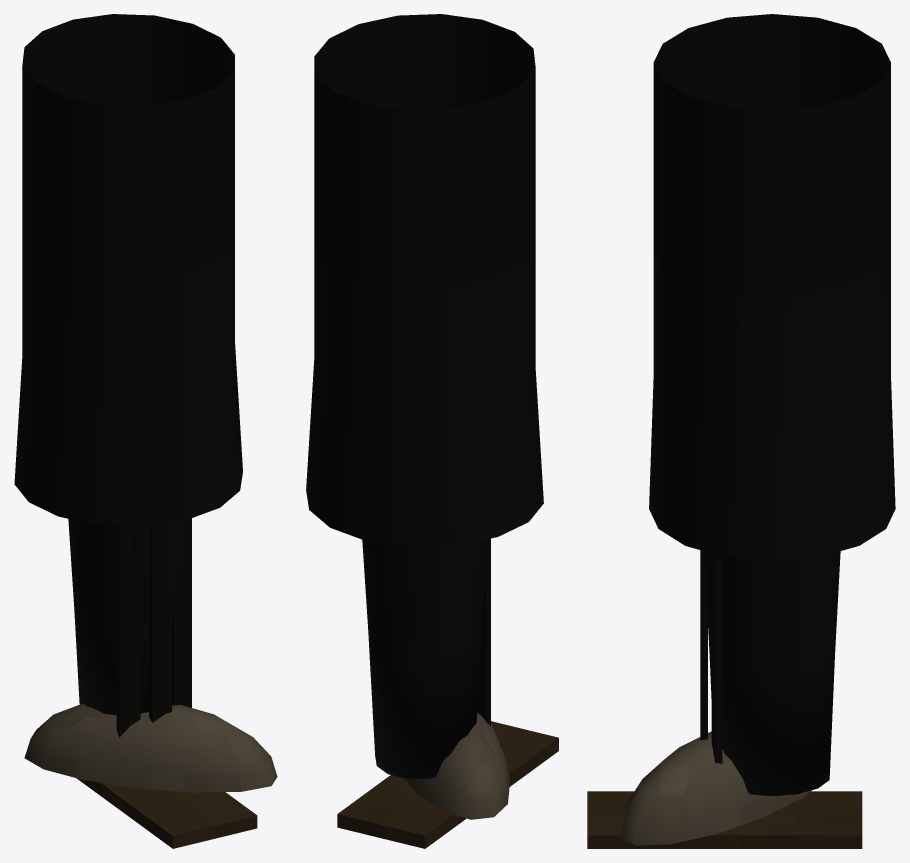
File: fp_leg_edo.glb
3 views of the same model, side by side, from view 1: azimuth 30°, elevation 25°; view 2: azimuth 150°, elevation 25°; view 3: azimuth 270°, elevation 25° (orthographic). The views are drawn at different scales.
Visible parts, largest first — view 1: fp_leg.001; view 2: fp_leg.001; view 3: fp_leg.001.
Boxes of the visible parts, bbox=[...] form: fp_leg.001: bbox=[14, 14, 277, 848]; fp_leg.001: bbox=[306, 14, 558, 848]; fp_leg.001: bbox=[587, 14, 895, 848].
Bounding box in the file's own units: 0.26 × 0.89 × 0.325.
4 materials, 4 textured.
